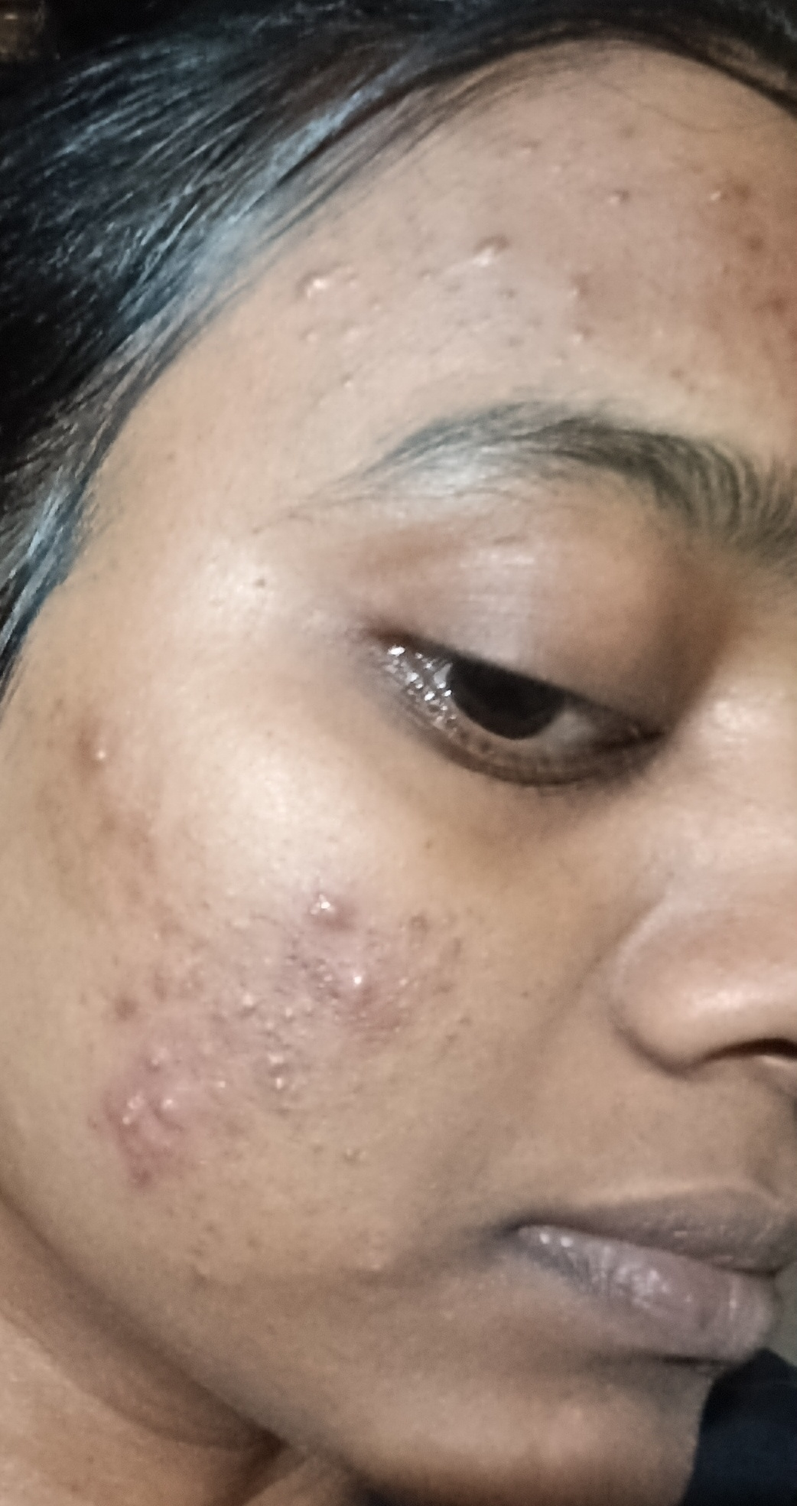papule: (439, 230, 544, 295), (283, 886, 387, 951), (216, 973, 283, 1045), (246, 1043, 320, 1105), (320, 961, 407, 1013)
pustule: (112, 1065, 221, 1164), (285, 257, 375, 324), (74, 712, 129, 797)
